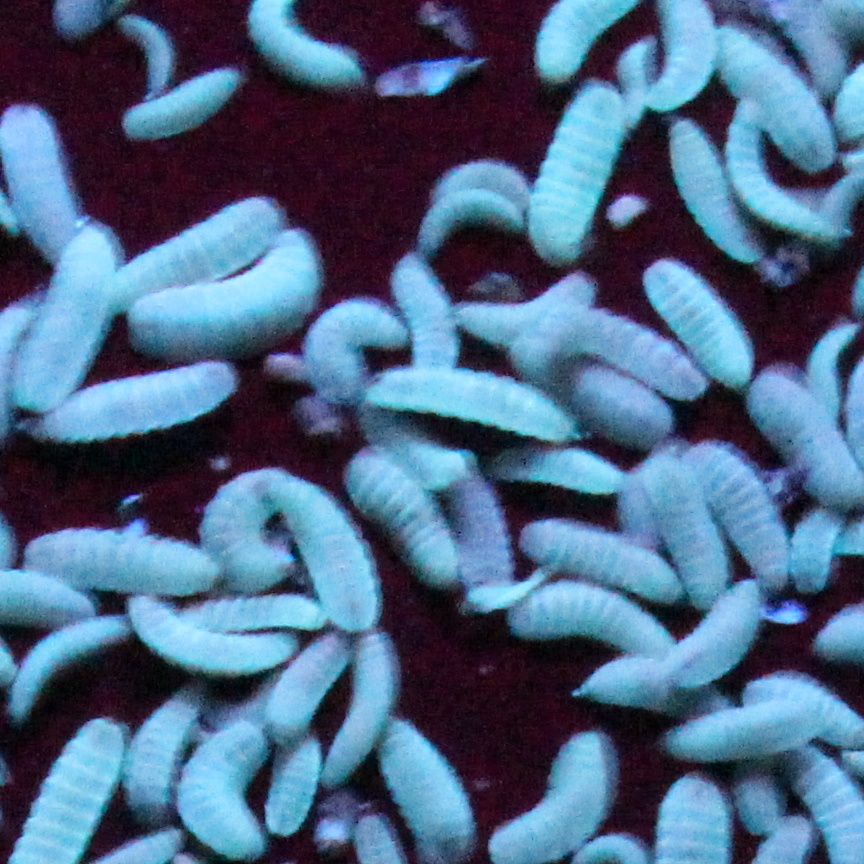larve: (128, 224, 320, 352), (581, 582, 764, 695), (721, 20, 849, 180), (258, 468, 382, 632), (106, 188, 286, 296), (14, 224, 108, 422), (524, 75, 629, 252), (366, 365, 591, 442), (731, 110, 851, 245), (344, 465, 474, 585), (58, 356, 248, 438), (494, 730, 614, 857), (691, 447, 796, 590), (176, 714, 274, 862), (509, 582, 681, 662), (521, 522, 689, 600), (132, 602, 302, 678), (326, 626, 400, 800), (28, 526, 216, 594), (200, 474, 306, 590), (8, 110, 86, 264), (564, 312, 711, 392), (124, 676, 200, 830), (676, 117, 756, 257), (646, 470, 734, 590), (308, 298, 408, 398), (246, 2, 370, 82), (526, 2, 649, 75), (454, 275, 591, 340), (391, 257, 466, 372), (122, 66, 238, 140), (449, 462, 509, 595), (651, 5, 714, 115), (681, 702, 806, 755), (190, 586, 334, 632), (566, 370, 671, 432), (122, 18, 186, 104), (739, 780, 789, 845)
